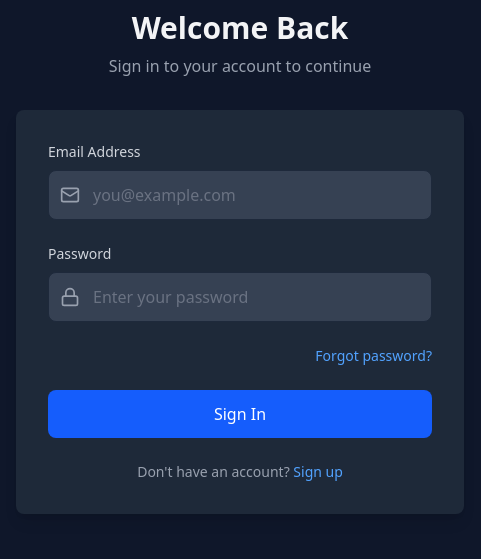
Scenario: Login Page › should validate password field when empty
The image size is (481, 559).
Type "test@example.com" into the field labelled "Email Address". click: point(240, 195)
box: [48,170,432,220]
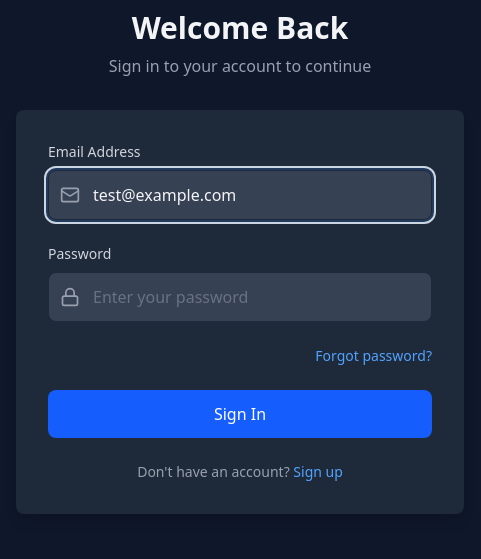
Click the button "Sign In". click: point(240, 414)
box: [48,390,432,438]
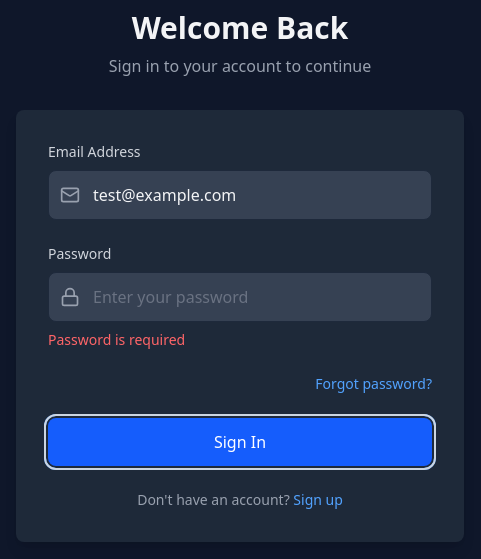
Expected: the text "Password is required" is shown, [48,330,185,349]
